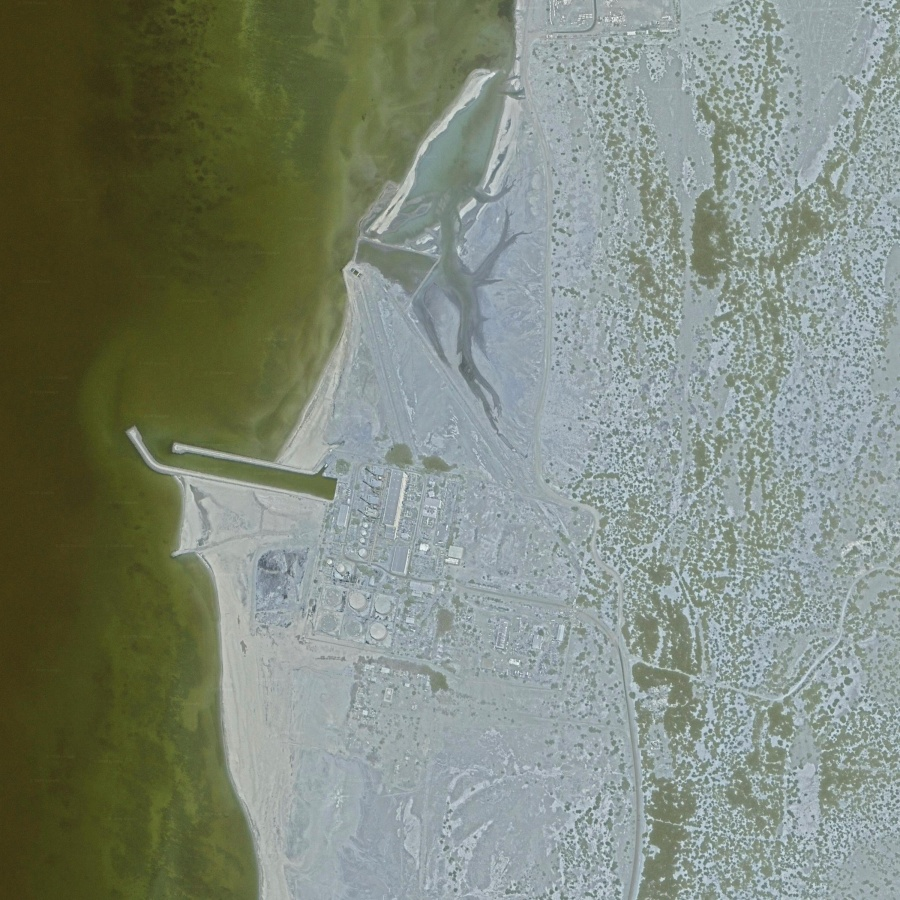PowerPlant: (244, 455, 472, 658)
